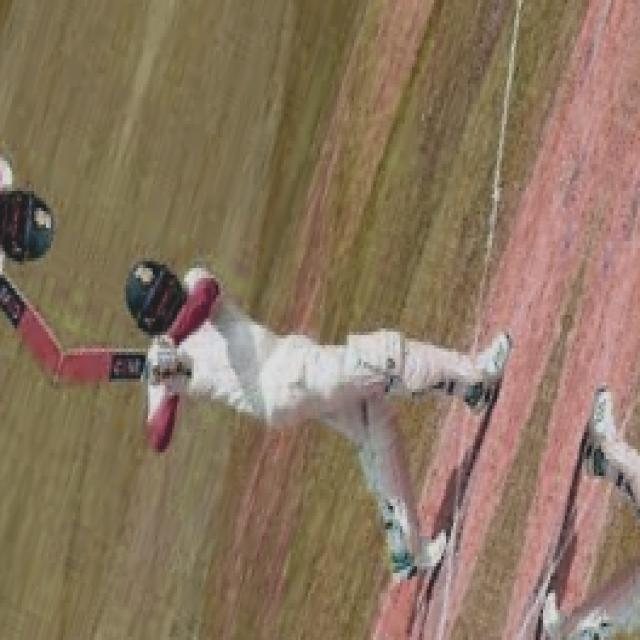toe: (50, 348, 88, 393)
